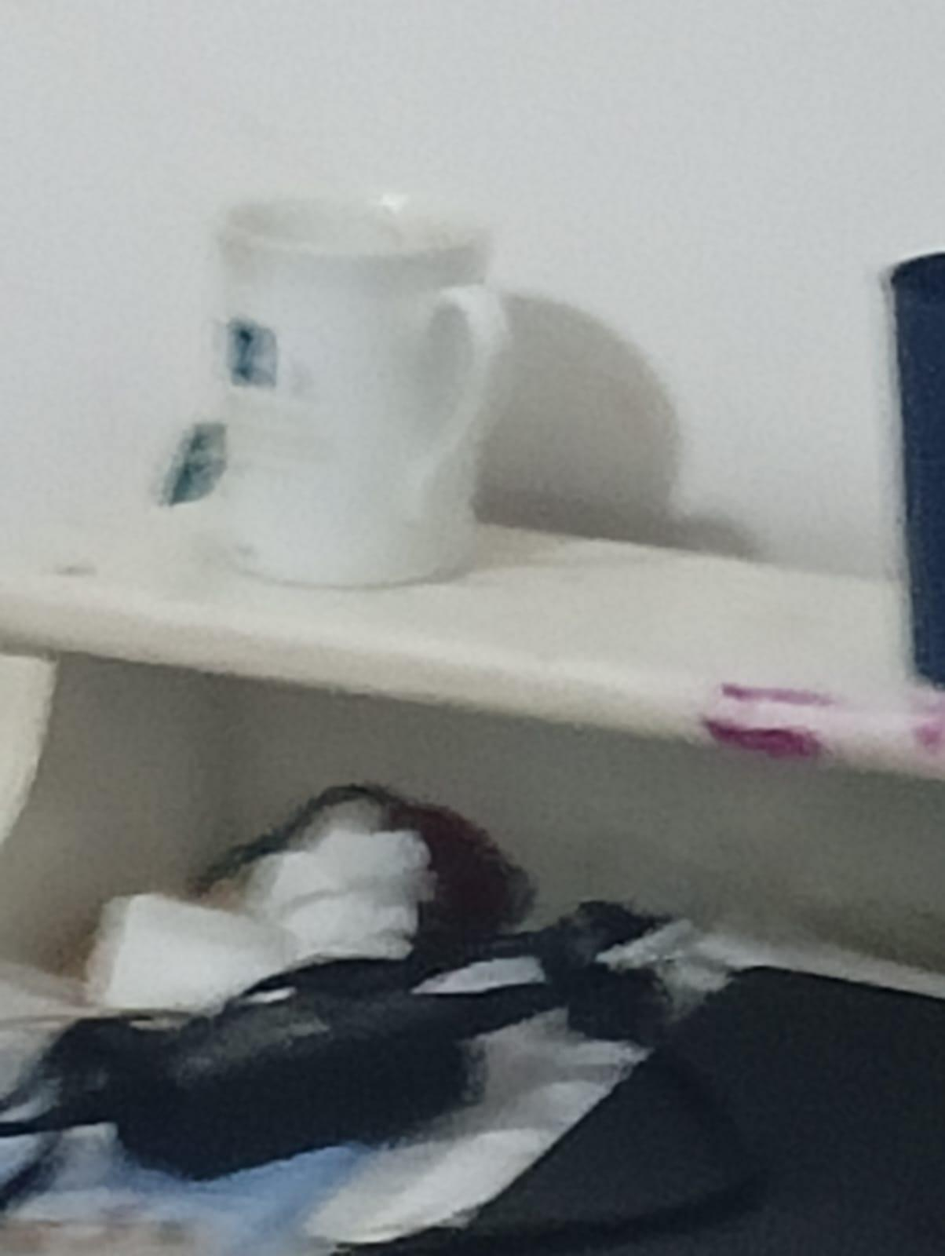cup: (220, 196, 505, 585), (891, 254, 944, 685)
